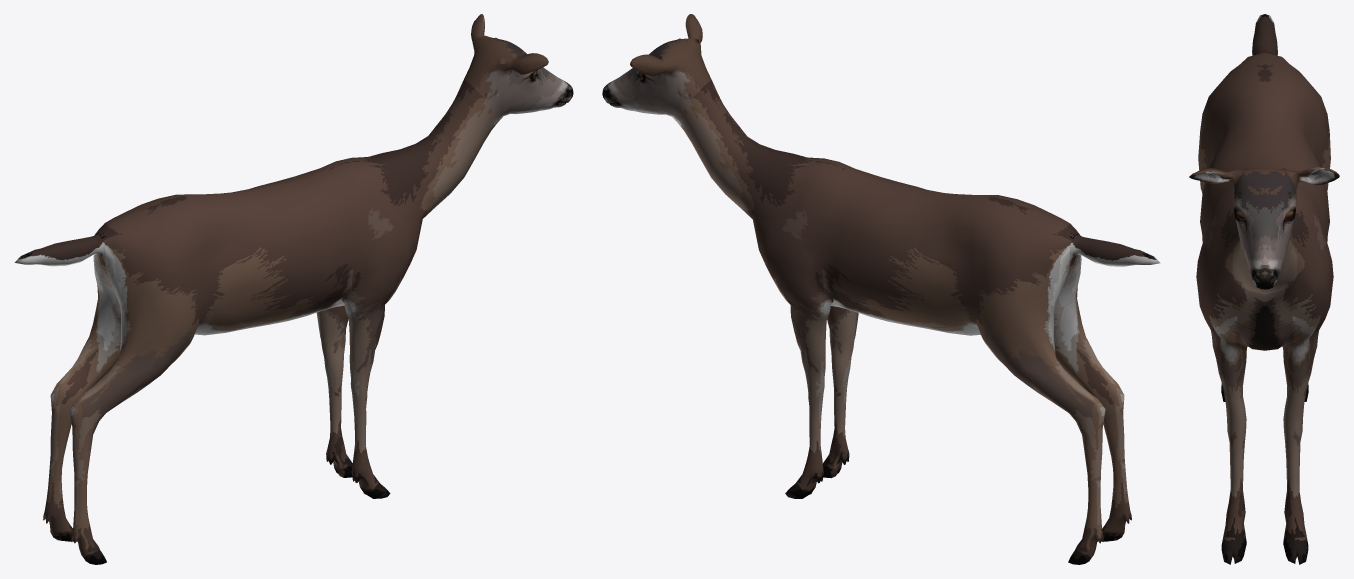
File: lan.glb
The picture shows the model from 3 angles, left to right: view 1: azimuth 30°, elevation 25°; view 2: azimuth 150°, elevation 25°; view 3: azimuth 270°, elevation 25°; orthographic projection. The views are drawn at different scales.
Parts seen in each view (by area): view 1: sm_3_0_1_Doe_Body_A_0, sm_3_0_1_Dow_Head_A_0; view 2: sm_3_0_1_Doe_Body_A_0, sm_3_0_1_Dow_Head_A_0; view 3: sm_3_0_1_Doe_Body_A_0, sm_3_0_1_Dow_Head_A_0.
Part boxes in pixels (x1,y1,x2,y2): sm_3_0_1_Doe_Body_A_0: (14, 80, 503, 564); sm_3_0_1_Dow_Head_A_0: (463, 14, 573, 115); sm_3_0_1_Doe_Body_A_0: (672, 81, 1160, 564); sm_3_0_1_Dow_Head_A_0: (602, 14, 711, 116); sm_3_0_1_Doe_Body_A_0: (1196, 14, 1333, 564); sm_3_0_1_Dow_Head_A_0: (1189, 167, 1339, 289).
Size of the model in its own units: 1.83 by 1.3 by 0.3757.
3 materials, 3 textured.
